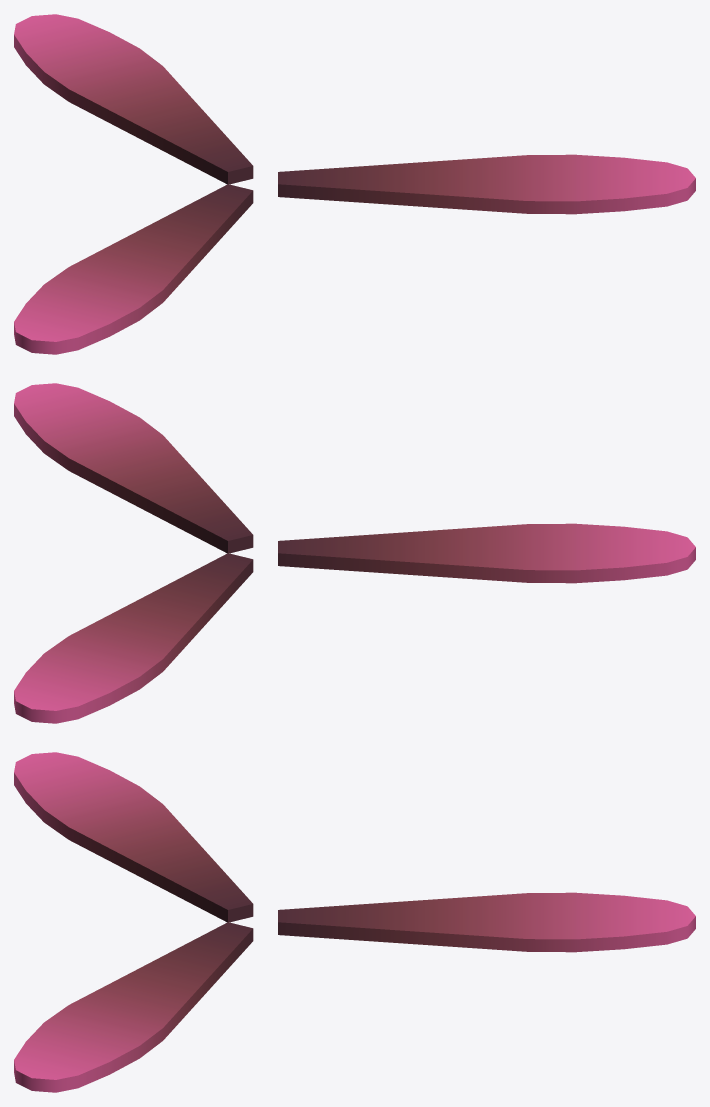
File: SM_Helicopter_Propeller.fbx
The picture shows the model from 3 angles, top to bottom: view 1: azimuth 30°, elevation 25°; view 2: azimuth 150°, elevation 25°; view 3: azimuth 270°, elevation 25°; orthographic projection.
Parts seen in each view (by area): view 1: SM_Helicopter_Propeller; view 2: SM_Helicopter_Propeller; view 3: SM_Helicopter_Propeller.
Boxes of the visible parts, box(x1,y1,x2,y2) form: SM_Helicopter_Propeller: box(14, 14, 695, 354); SM_Helicopter_Propeller: box(14, 383, 695, 723); SM_Helicopter_Propeller: box(14, 752, 695, 1092).
Bounding box in the file's own units: 79.69 × 1.45 × 70.08.
